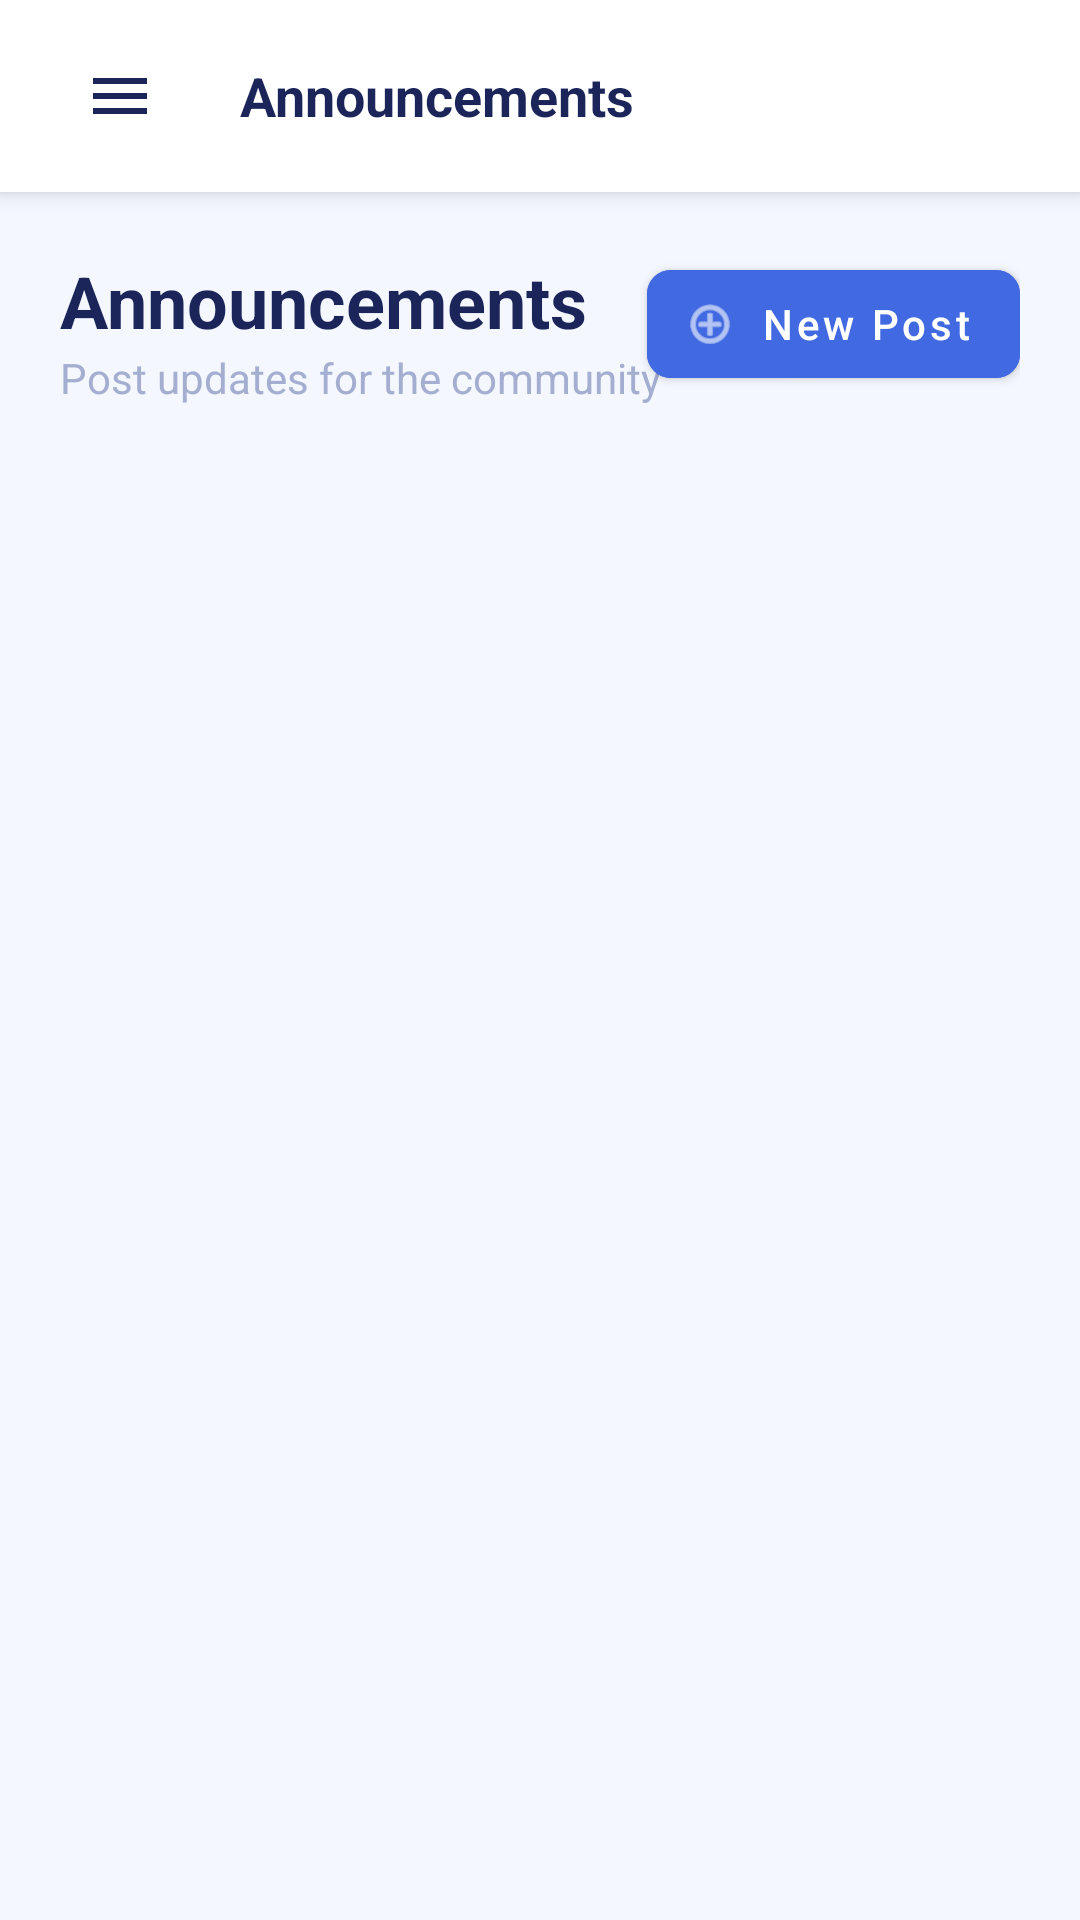

Named icons in this screenshot (1080*1920) and their bounding boxes, (left=x1, top=y1, right=x2, bottom=y2):
Menu: (left=93, top=78, right=147, bottom=114)
